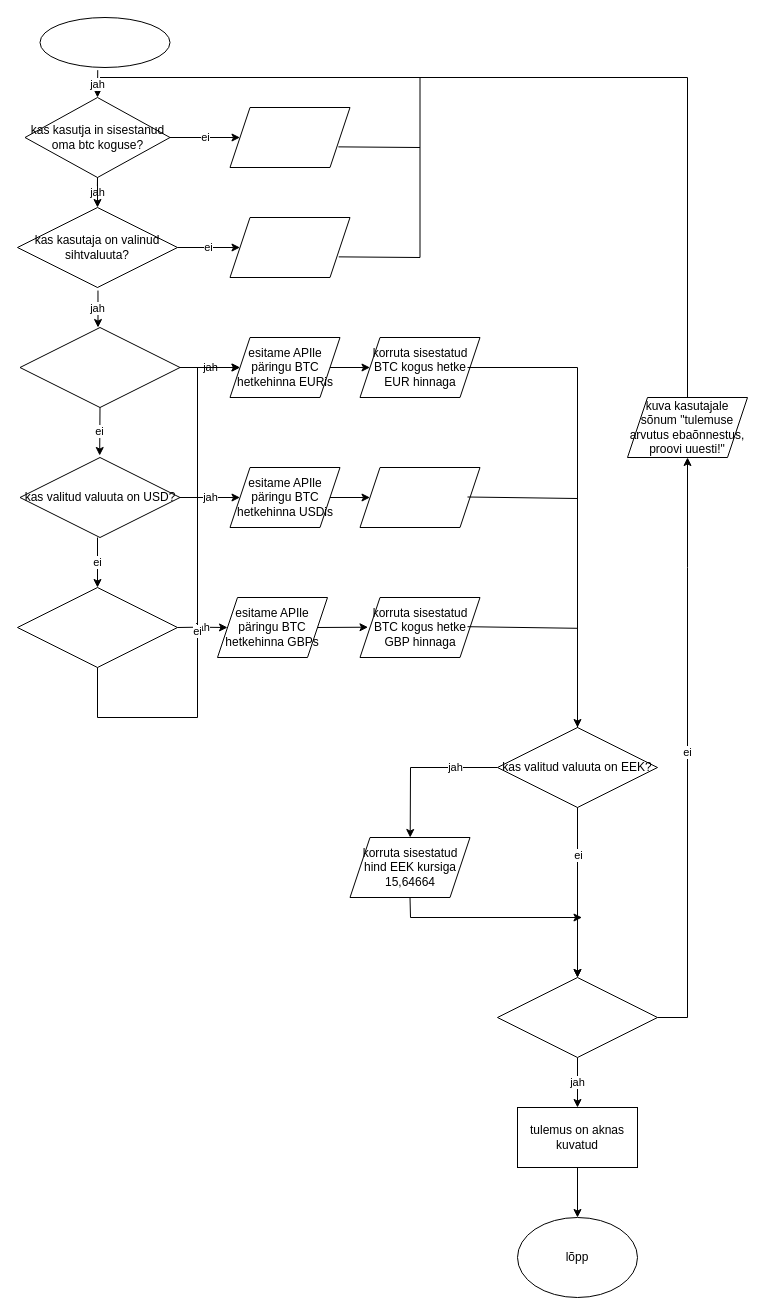
This 765x1315 diagram has some shape labels left out. The centre of each missing label's shape, as x and y in pixels:
Algus: point (104, 42)
kas arvutus teostati edukalt?: point (577, 1017)
kas valitud valuuta on EUR?: point (99, 367)
kas valitud valuuta on GBP?: point (97, 627)
korruta sisestatud BTC kogus hetke USD hinnaga: point (419, 497)
kuva kasutajale sõnum "palun sisesta btc kogus": point (289, 137)
kuva kasutajale sõnum "palun vali valuuta": point (289, 247)
